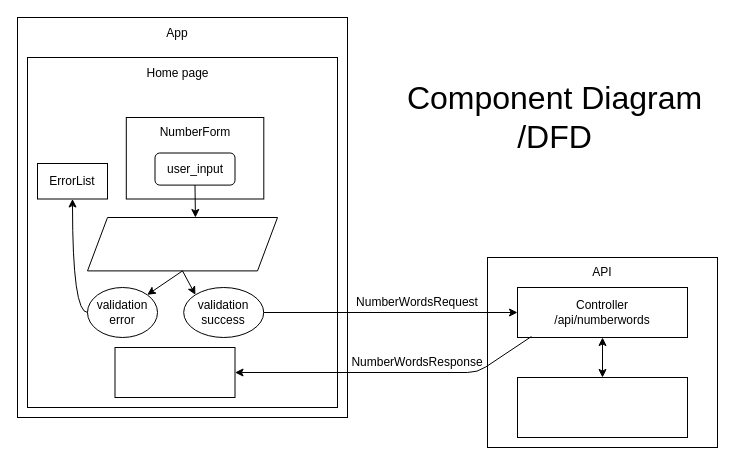
The diagram is 740 pixels wide and 465 high, and some of its shapes have lost their labels. Here are the shapes that lost their labels. From the top down, the centre of each, then its label:
At [182,243]: "parseAndValidateNumbers()".
At [174,372]: "ResultsList".
At [602,407]: "Models".
